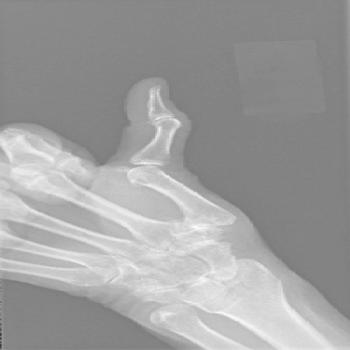Fracture: (113, 156, 164, 182)
